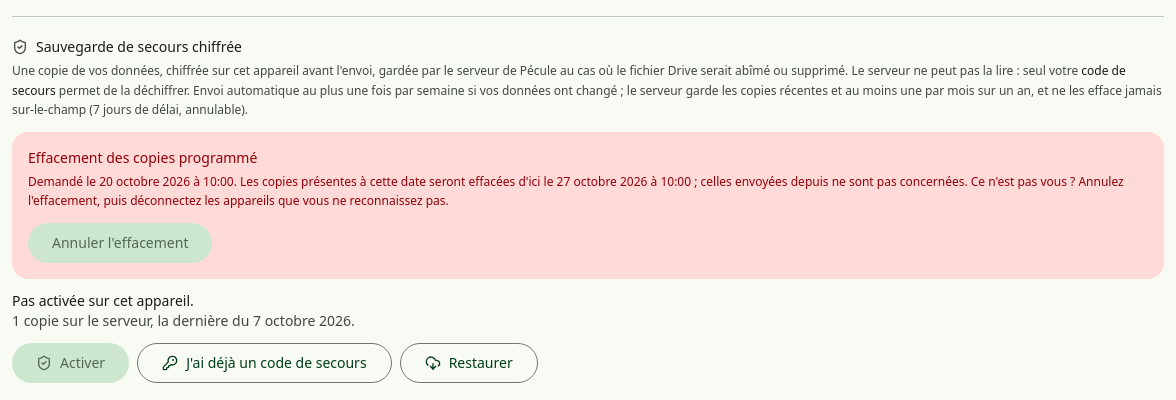
Scenario: Sauvegarde de secours chiffrée (Réglages) › effacement programmé : affiché, avec « Annuler l’effacement »
The width and height of the screenshot is (1176, 400).
expect the text "Effacement des copies programmé" is shown: met, box [28,148,257,166]
Click the button "Annuler l'effacement". click: click(120, 242)
box: [28,222,212,262]
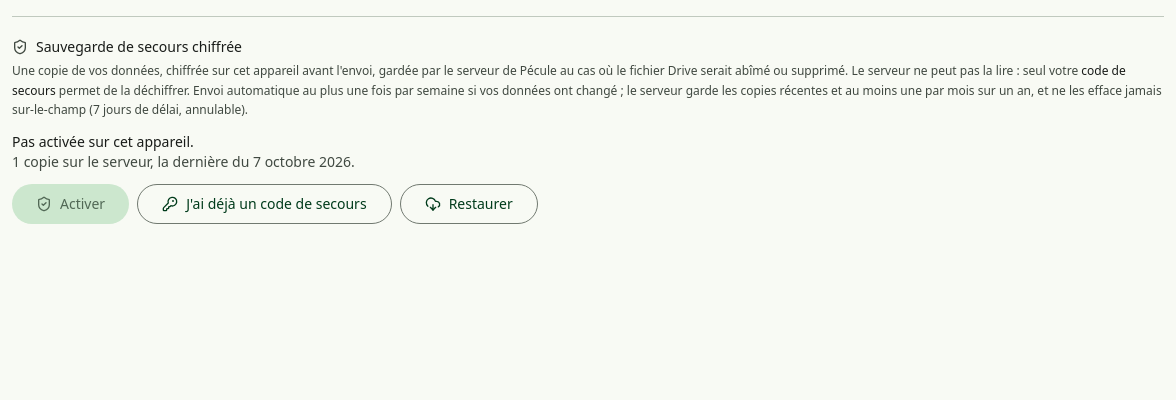
expect the text "Effacement des copies programmé" is gone: met
